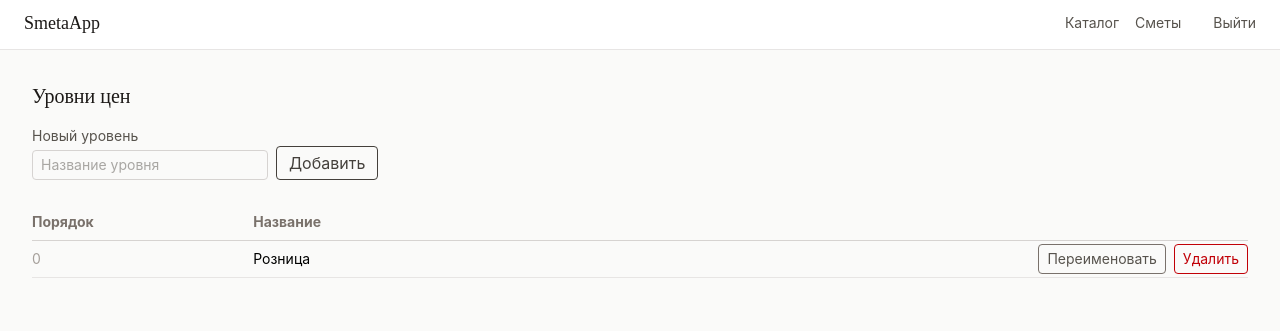
Scenario: PriceLevelsPage › shows the 409 error when a level is in use
Expected: the text "Розница" is shown, [253,240,496,278]
What coordinates should you click on to do the following:
click the button "Удалить"
I would click on:
 (1211, 259)
Its box is [1174,244,1248,274].
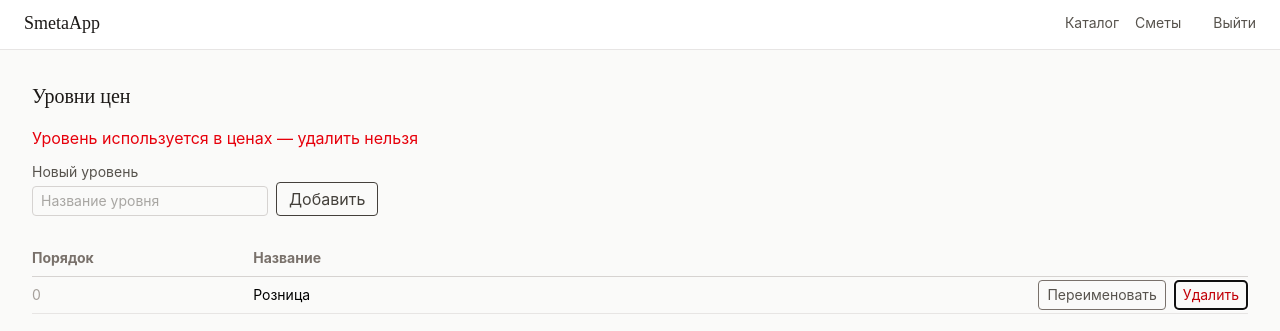
Expected: the message shows "используется в ценах", [32,128,418,148]
